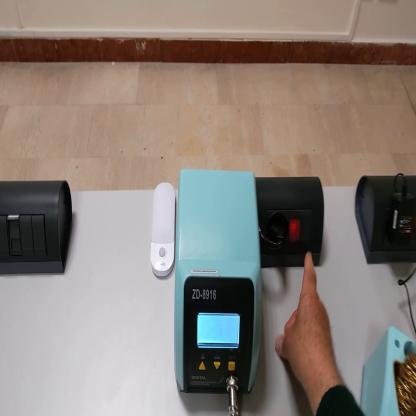hand: (277, 253, 337, 389)
socket: (257, 177, 327, 270), (354, 166, 416, 266)
welder base: (361, 323, 416, 416)
welder station: (177, 169, 262, 399)
